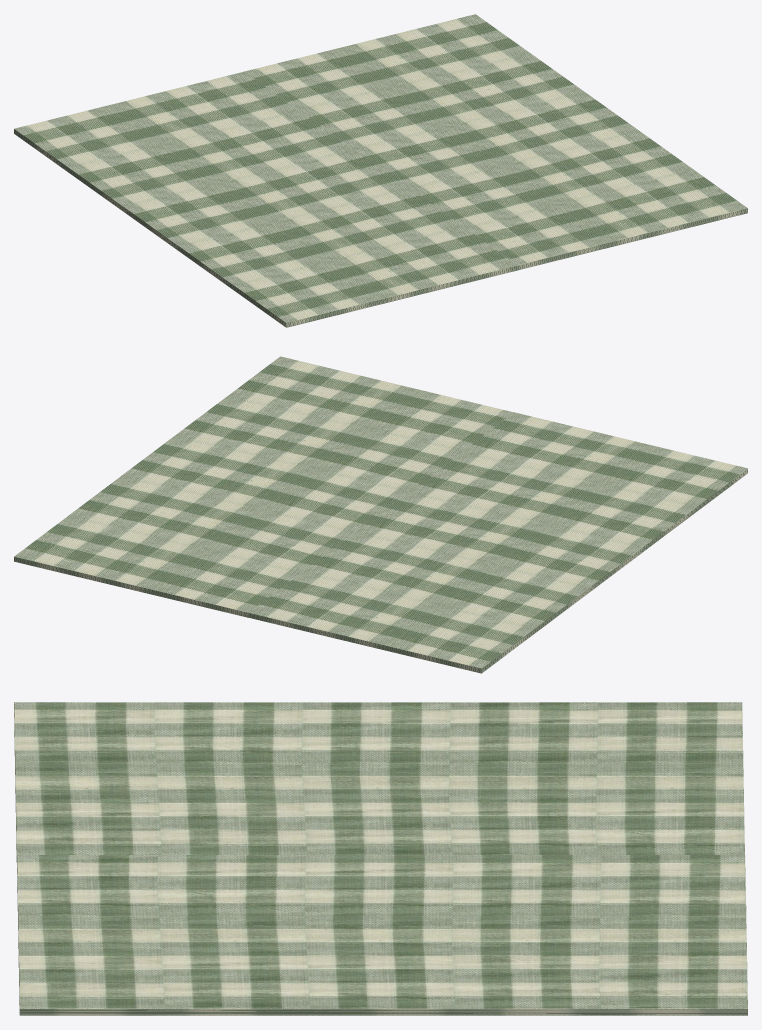
The model's file is yer2.fbx.
The picture shows the model from 3 angles, top to bottom: view 1: azimuth 30°, elevation 25°; view 2: azimuth 150°, elevation 25°; view 3: azimuth 270°, elevation 25°; orthographic projection. The views are drawn at different scales.
Visible parts, largest first — view 1: Cube.011; view 2: Cube.011; view 3: Cube.011.
Part boxes in pixels (x1=…): Cube.011: x1=14, y1=14, x2=747, y2=327; Cube.011: x1=14, y1=356, x2=747, y2=673; Cube.011: x1=14, y1=702, x2=747, y2=1015.
Size of the model in its own units: 10036 by 145 by 10078.
